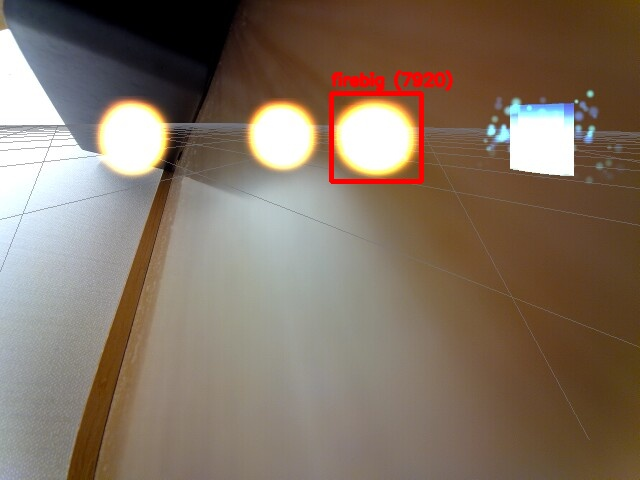firebig: (331, 93, 421, 181)
